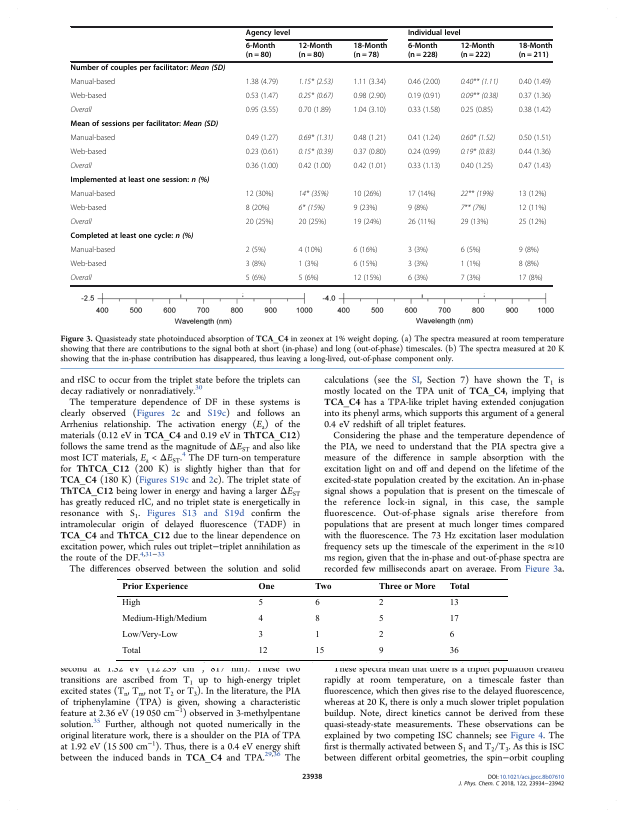borderless: (69, 25, 552, 285), (116, 577, 508, 660)
cell: (70, 64, 226, 74), (70, 120, 219, 130), (70, 176, 210, 186), (70, 232, 194, 242), (121, 614, 207, 624), (121, 581, 188, 591), (298, 42, 333, 61), (353, 42, 388, 61), (460, 42, 495, 61), (518, 42, 553, 61), (407, 42, 439, 61), (377, 581, 436, 591), (245, 42, 276, 61), (121, 630, 178, 640), (407, 29, 462, 38), (245, 29, 291, 38), (70, 78, 116, 87), (70, 134, 116, 143), (70, 190, 116, 199), (70, 246, 116, 255), (460, 78, 499, 87), (460, 92, 499, 101), (70, 92, 107, 101), (70, 148, 107, 157), (70, 204, 107, 213), (70, 260, 107, 269), (298, 78, 334, 87), (298, 92, 334, 101), (298, 134, 334, 143), (460, 134, 496, 143), (298, 148, 334, 157), (460, 148, 496, 157), (460, 190, 495, 199), (245, 78, 279, 87), (353, 78, 387, 87), (407, 78, 441, 87), (518, 78, 552, 87), (245, 92, 279, 101), (353, 92, 387, 101), (407, 92, 441, 101), (518, 92, 552, 101), (245, 106, 279, 115), (298, 106, 332, 115), (353, 106, 387, 115), (407, 106, 441, 115), (460, 106, 494, 115), (518, 106, 552, 115), (245, 134, 279, 143), (353, 134, 387, 143), (407, 134, 441, 143), (518, 134, 552, 143), (245, 148, 279, 157), (353, 148, 387, 157), (407, 148, 441, 157), (518, 148, 552, 157), (245, 162, 279, 171), (298, 162, 332, 171), (353, 162, 387, 171), (407, 162, 441, 171), (460, 162, 494, 171), (518, 162, 552, 171), (298, 190, 329, 199), (407, 190, 437, 199), (407, 218, 437, 227), (245, 190, 274, 199), (353, 190, 382, 199), (518, 190, 547, 199), (518, 204, 547, 213), (245, 218, 274, 227), (298, 218, 327, 227), (353, 218, 382, 227), (460, 218, 489, 227), (518, 218, 547, 227), (353, 274, 382, 283), (298, 204, 326, 213), (460, 204, 487, 213), (245, 204, 271, 213), (518, 274, 544, 283), (353, 204, 378, 213), (298, 246, 323, 255), (353, 246, 378, 255), (353, 260, 378, 269), (448, 581, 470, 591), (70, 106, 93, 115), (70, 162, 93, 171), (70, 218, 93, 227), (70, 274, 93, 283), (121, 598, 141, 608), (121, 646, 141, 656), (407, 204, 429, 213), (245, 246, 267, 255), (407, 246, 429, 255), (460, 246, 482, 255), (518, 246, 540, 255), (245, 260, 267, 269), (298, 260, 320, 269), (407, 260, 429, 269), (460, 260, 482, 269), (518, 260, 540, 269), (245, 274, 267, 283), (298, 274, 320, 283), (407, 274, 429, 283), (460, 274, 482, 283), (257, 581, 275, 591), (314, 581, 332, 591), (448, 598, 459, 608), (448, 614, 459, 624), (257, 646, 268, 656), (314, 646, 325, 656), (448, 646, 459, 656), (377, 598, 384, 608), (377, 614, 384, 624), (377, 630, 384, 640), (448, 630, 455, 640), (377, 646, 384, 656), (257, 598, 263, 608), (314, 598, 320, 608), (257, 614, 263, 624), (314, 614, 320, 624), (257, 630, 263, 640), (314, 630, 320, 640)
